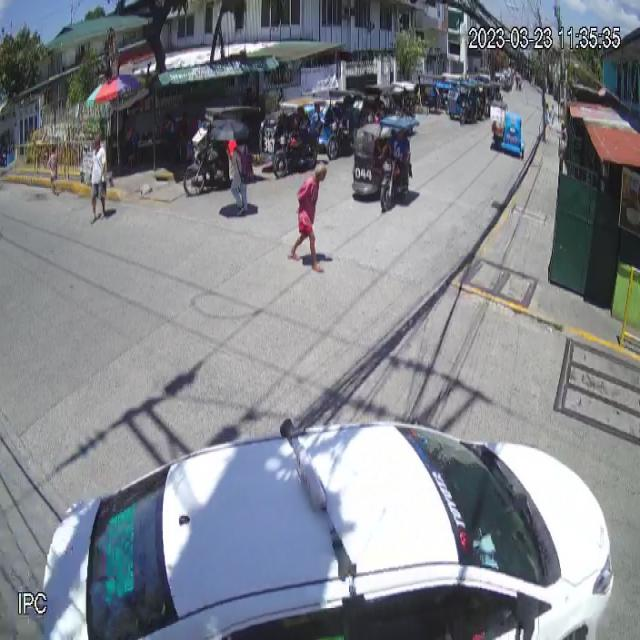Car: (34, 414, 612, 640)
Tricycle: (353, 116, 419, 216)
